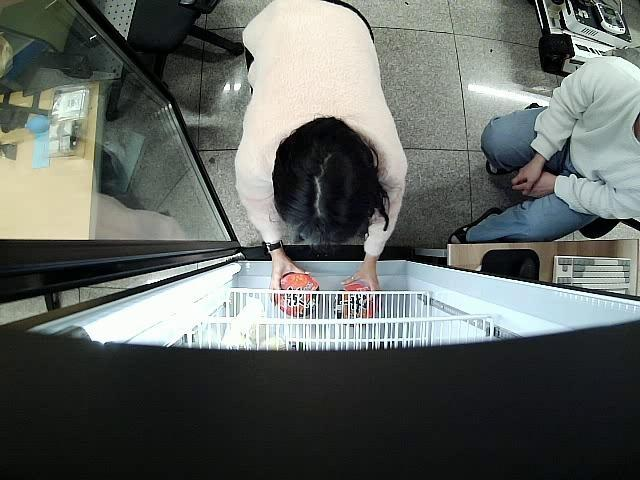01_ShinRamen_L: (274, 271, 322, 320), (335, 284, 380, 326)
